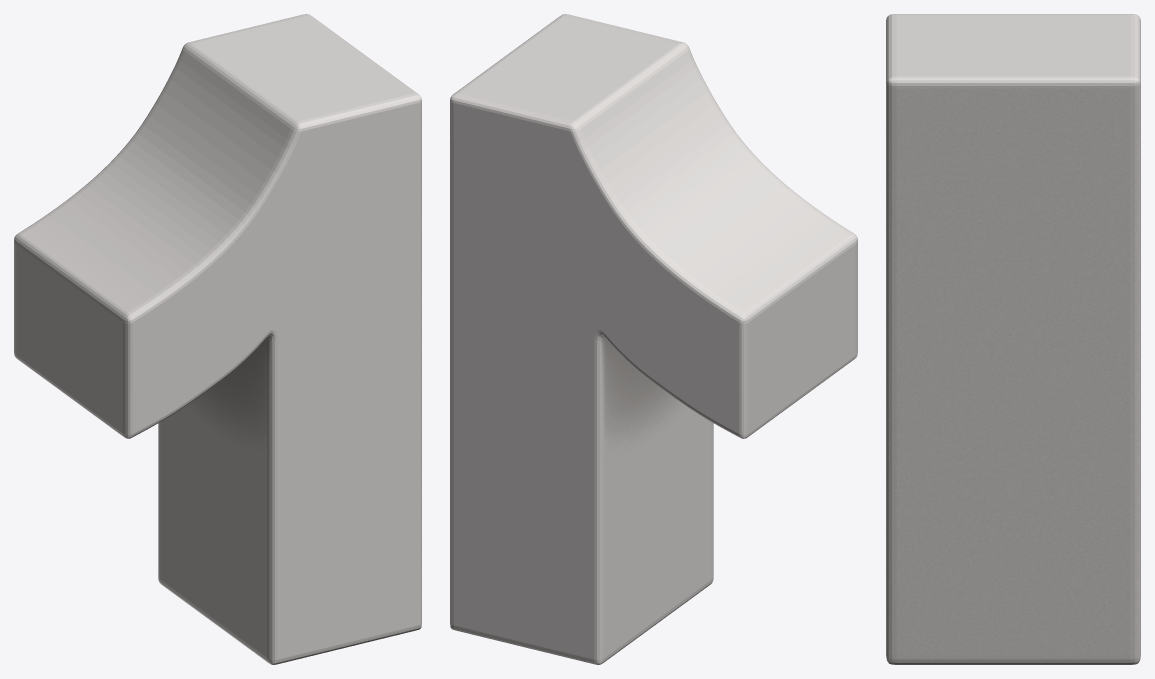
3 views of the same model, side by side, from view 1: azimuth 30°, elevation 25°; view 2: azimuth 150°, elevation 25°; view 3: azimuth 270°, elevation 25° (orthographic). The views are drawn at different scales.
Bounding box in the file's own units: 0.0468 × 0.0806 × 0.0317.
Materials: 1 (1 with a texture image).
